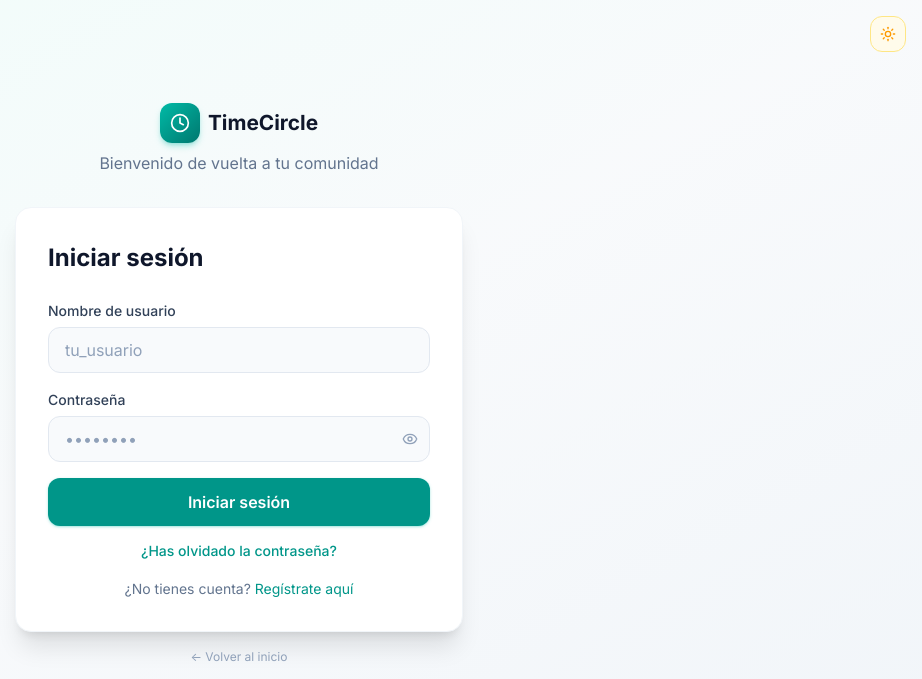
Test: Login page › shows reset password form when requested
The image size is (922, 679).
Click the button "¿Has olvidado la contraseña?". click: x=239, y=550
box: [141,540,337,560]
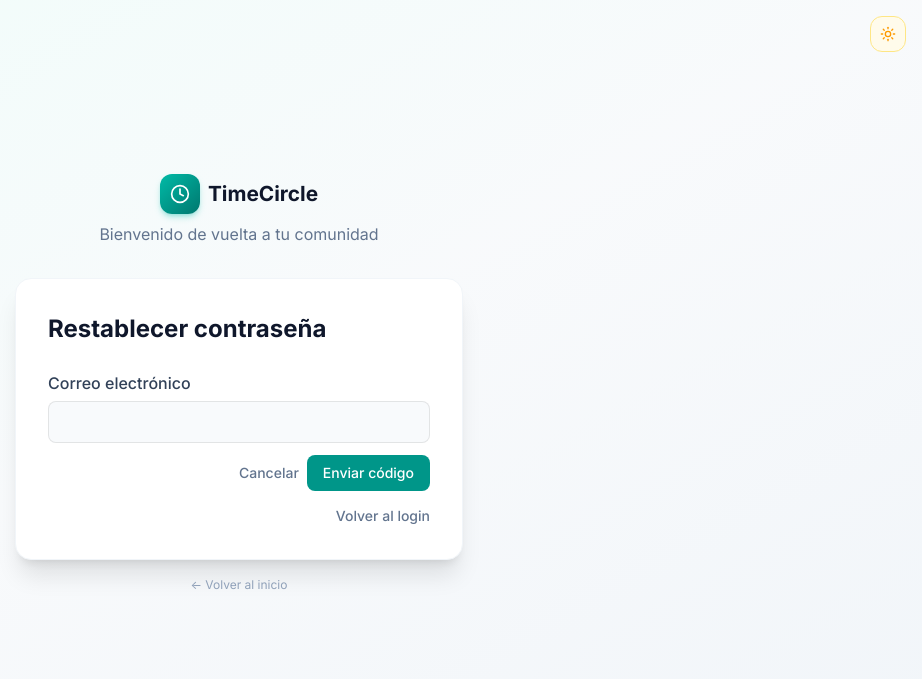
Expected: the heading "Restablecer contraseña" is shown, [48,314,326,343]
